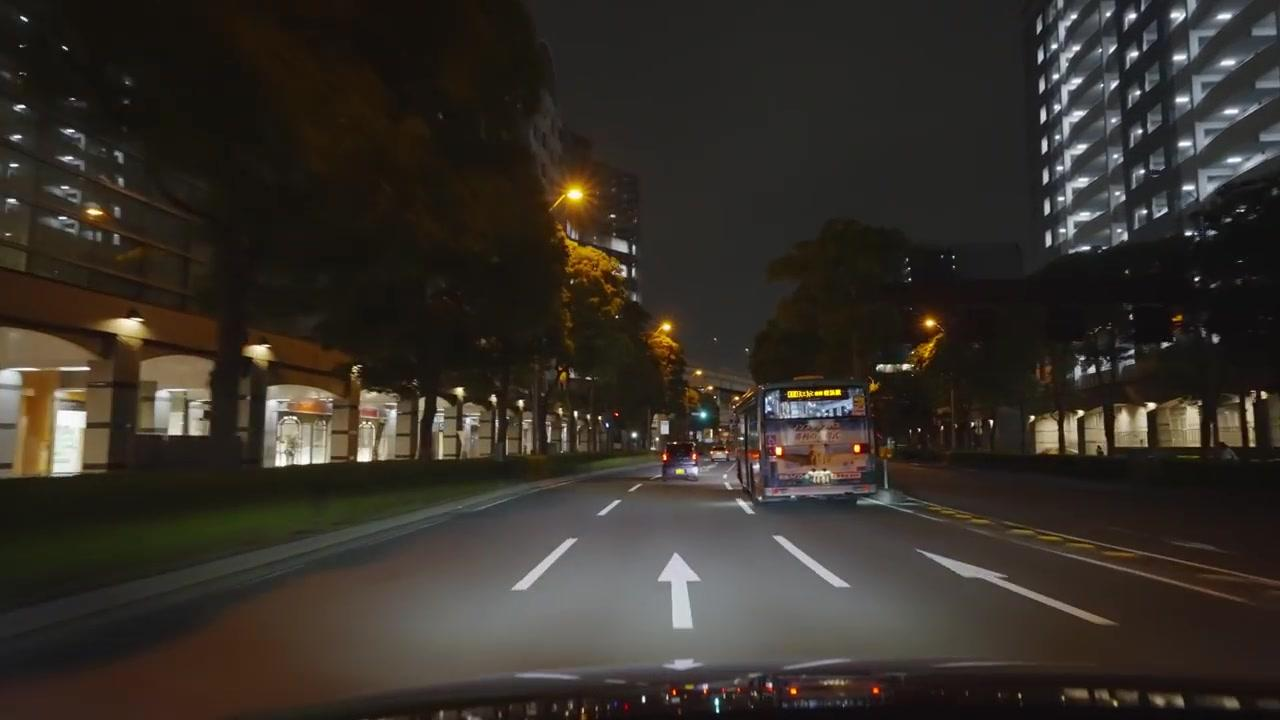bus: (728, 377, 882, 503)
car: (661, 440, 701, 480)
traffic light: (1170, 310, 1184, 337)
